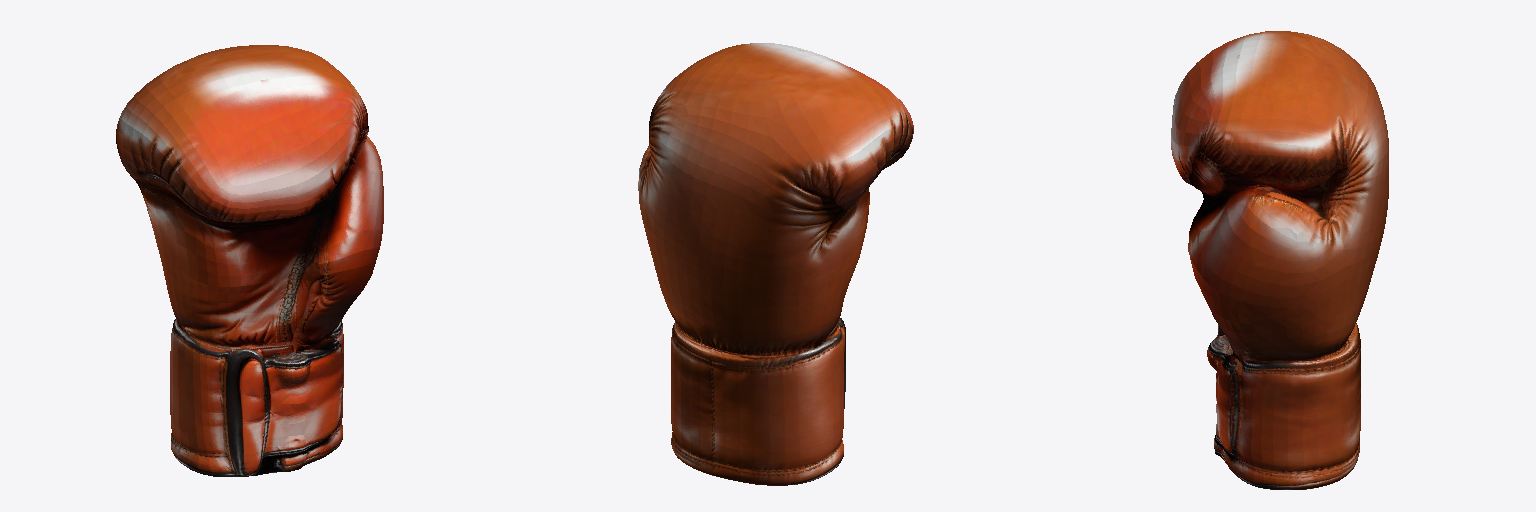
3 views of the same model, side by side, from view 1: azimuth 30°, elevation 25°; view 2: azimuth 150°, elevation 25°; view 3: azimuth 270°, elevation 25° (orthographic).
Visible parts, largest first — view 1: cartoon_boxer_s_glove_[number redacted]_texture; view 2: cartoon_boxer_s_glove_[number redacted]_texture; view 3: cartoon_boxer_s_glove_[number redacted]_texture.
Boxes of the visible parts, x1,y1,x2,y2 form: cartoon_boxer_s_glove_[number redacted]_texture: [116, 45, 383, 476]; cartoon_boxer_s_glove_[number redacted]_texture: [638, 43, 913, 485]; cartoon_boxer_s_glove_[number redacted]_texture: [1171, 31, 1388, 489].
Bounding box in the file's own units: 1.24 × 2 × 0.999.
Materials: 1 (1 with a texture image).